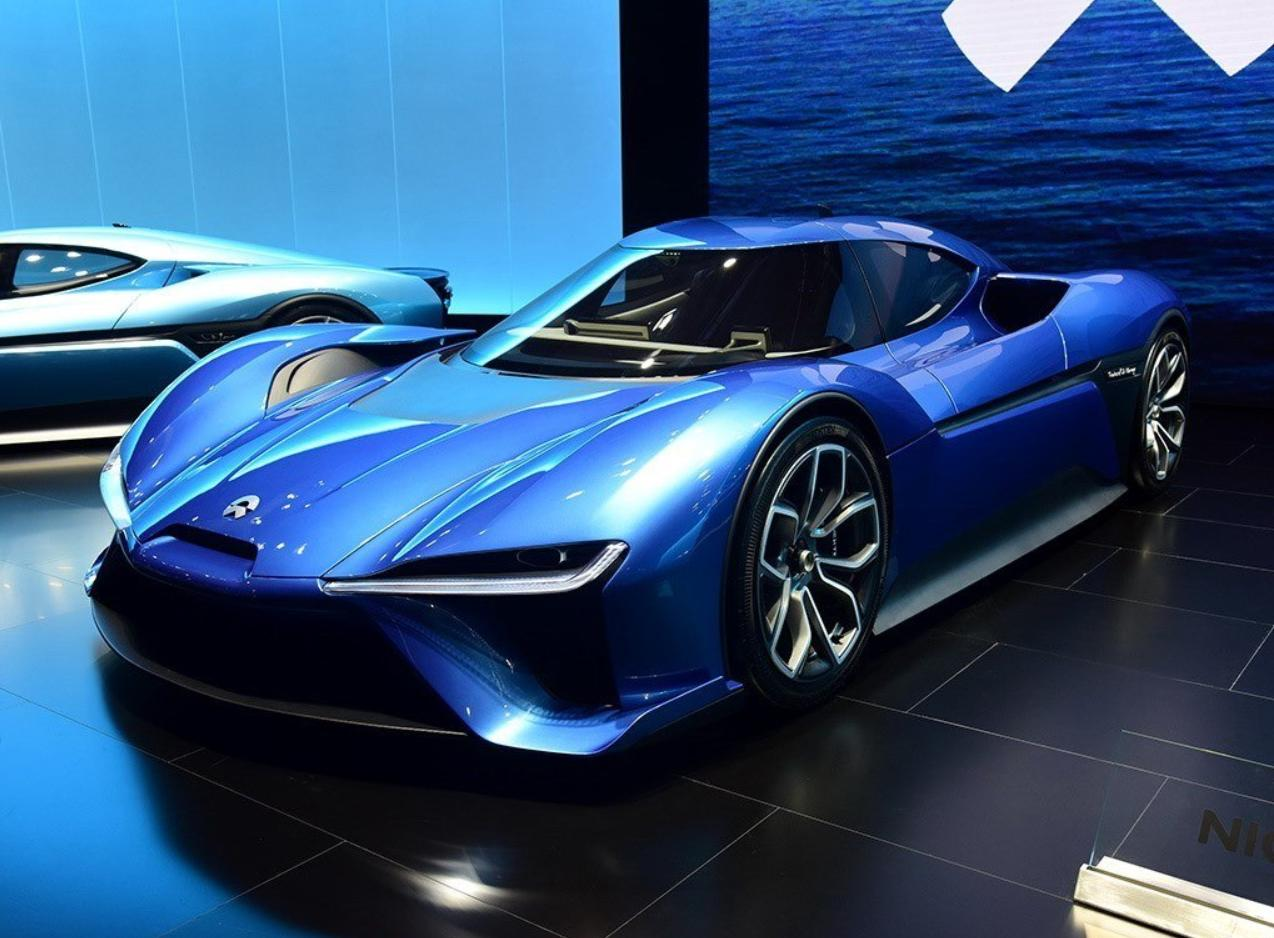NIO: (222, 494, 260, 519)
